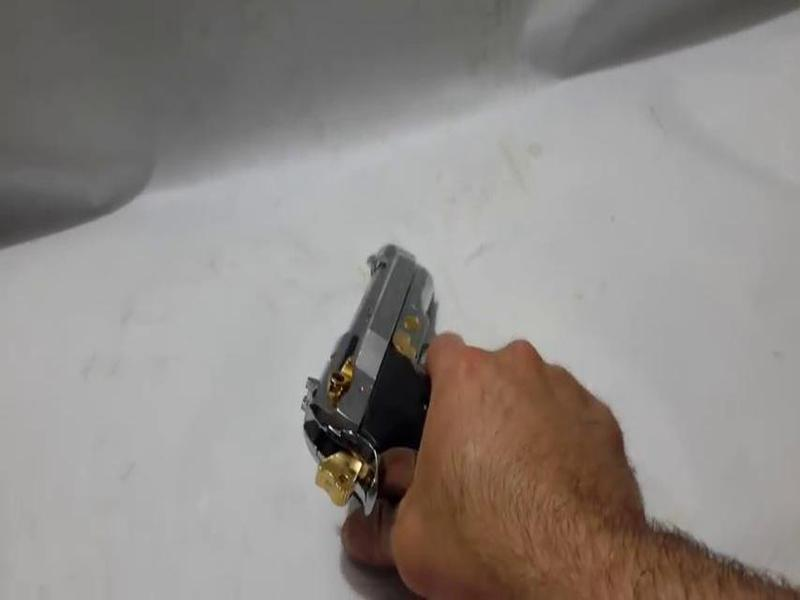Pistola: (294, 228, 457, 517)
